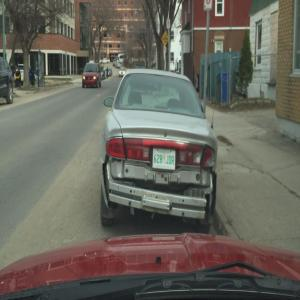Vehicle-registration-plate: (153, 147, 177, 173)
